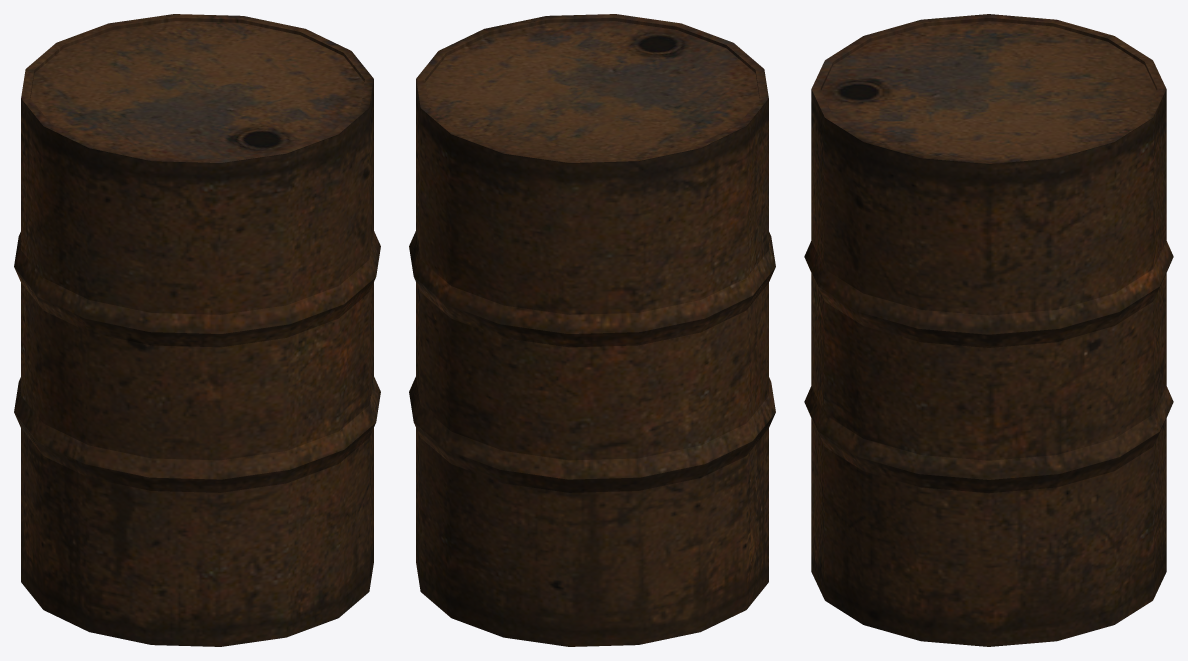
Rendered from metal_barrel_mp_3.obj.
The picture shows the model from 3 angles, left to right: view 1: azimuth 30°, elevation 25°; view 2: azimuth 150°, elevation 25°; view 3: azimuth 270°, elevation 25°; orthographic projection.
Visible parts, largest first — view 1: metal_barrel_mp_3; view 2: metal_barrel_mp_3; view 3: metal_barrel_mp_3.
Part boxes in pixels (left/top/right/bottom): metal_barrel_mp_3: left=14, top=14, right=380, bottom=646; metal_barrel_mp_3: left=409, top=14, right=775, bottom=646; metal_barrel_mp_3: left=804, top=14, right=1173, bottom=646.
Bounding box in the file's own units: 0.7488 × 1.08 × 0.7488.
